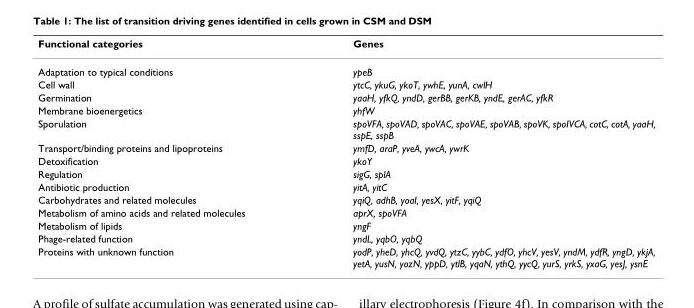table: (37, 36, 654, 268)
table column: (298, 36, 654, 268), (37, 36, 298, 268)
table column header: (37, 36, 654, 57)
table row: (37, 116, 654, 141), (37, 244, 654, 268), (37, 36, 654, 57), (37, 57, 654, 77), (37, 77, 654, 90), (37, 90, 654, 103), (37, 103, 654, 116), (37, 153, 654, 166), (37, 166, 654, 179), (37, 179, 654, 192), (37, 192, 654, 205), (37, 205, 654, 218), (37, 218, 654, 231), (37, 231, 654, 244), (37, 141, 654, 153)
